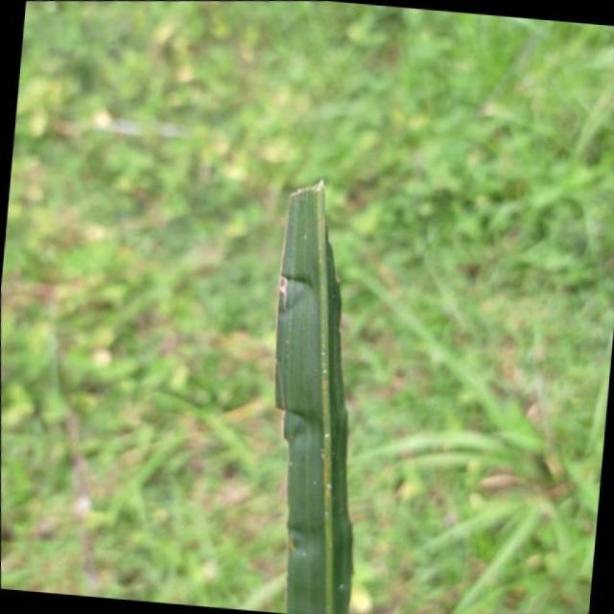Boron: (272, 174, 363, 614)
